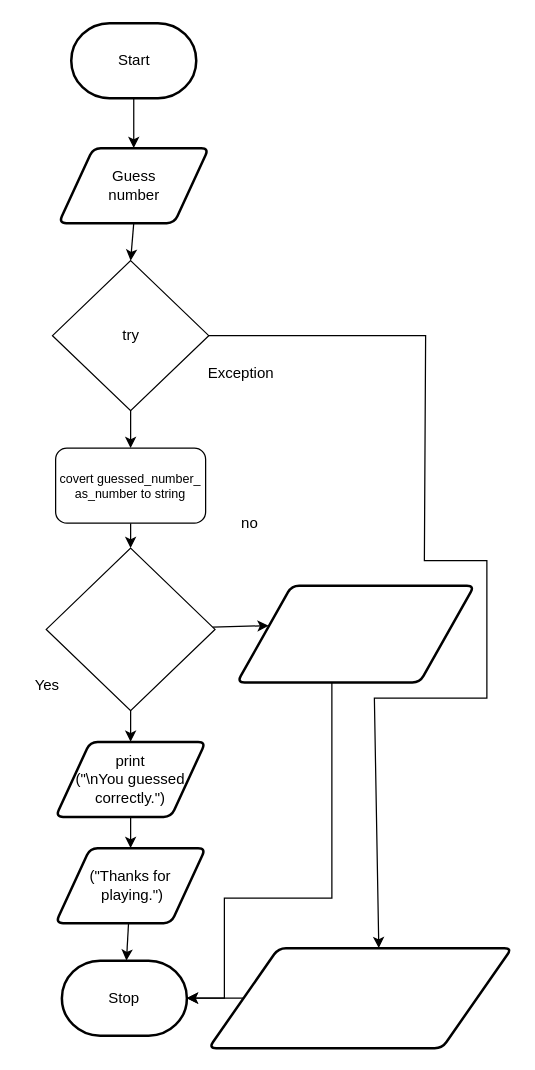
Image size: 535x1070. Some labels were removed from this diagram. Here are the shapes that lost their labels. From the top down, the box of each, then its label:
(45, 547, 215, 711): if guessed_number_ as_number == random_number:
(235, 584, 475, 683): print("\nYou guessed incorrectly, the number was {}.".format(random_number))
(207, 946, 512, 1049): print("\nNot good, {} is not an integer.".format(guessed_number _as_string))
